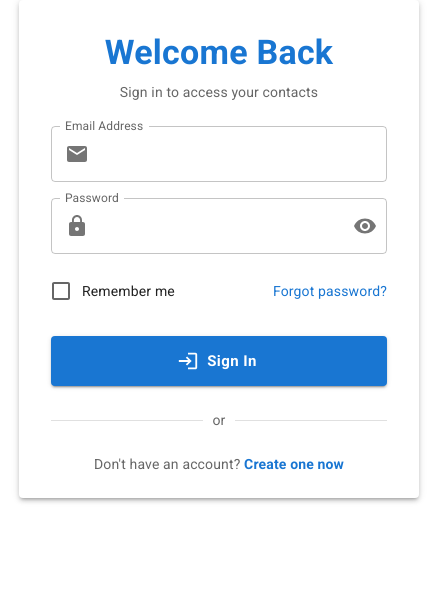
Test case: LoginForm › Form Submission › should display error message on login failure
The image size is (439, 592).
Type "test@example.com" into the field labelled "Email Address" at coordinates (242, 154), box [97, 126, 387, 182]
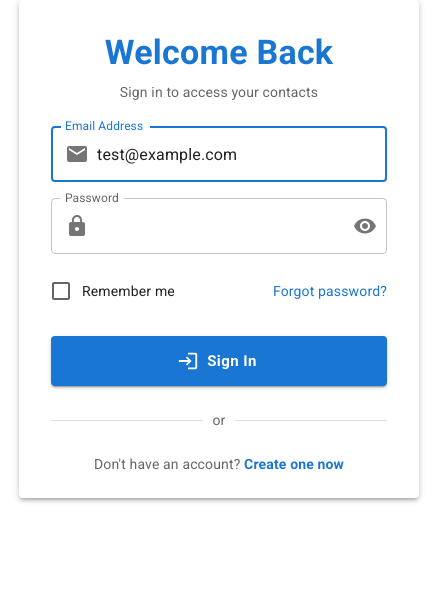
Type "WrongPassword123!" into the password field labelled "Password" at coordinates (217, 226), box [97, 198, 337, 254]
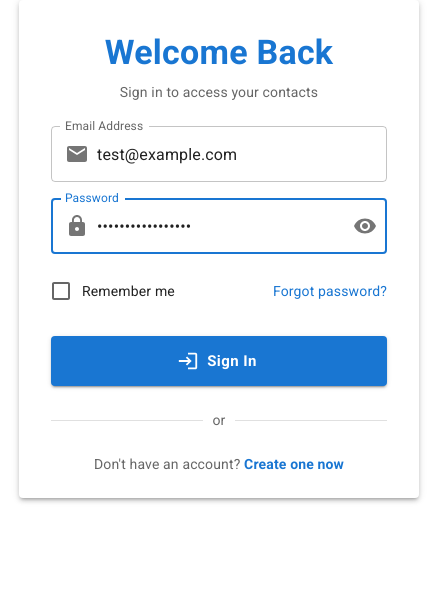
Click the button "Sign In" at coordinates (219, 361), box [51, 336, 387, 386]
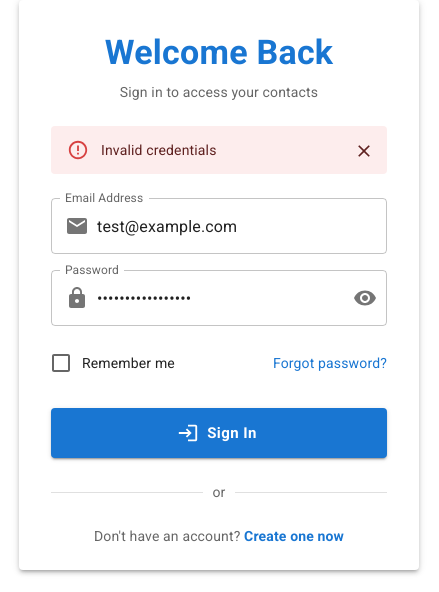
Check: the text "Invalid credentials" is shown, box [101, 142, 216, 158]
